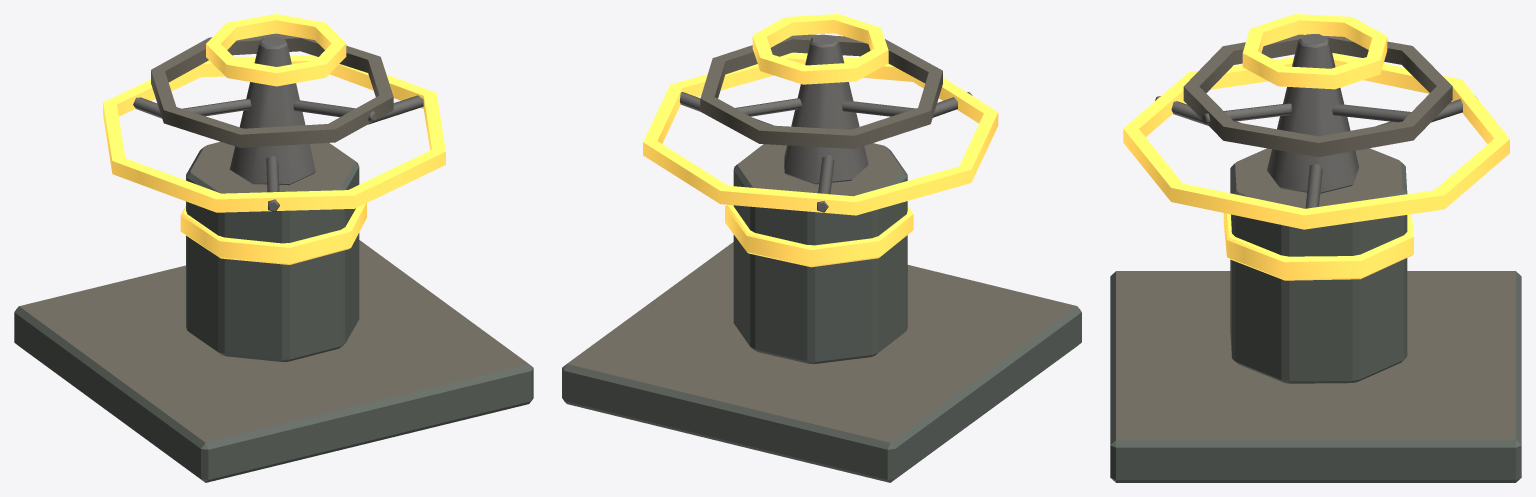
File: R4X_SupportTurretDeployer_LOD1.fbx
The picture shows the model from 3 angles, left to right: view 1: azimuth 30°, elevation 25°; view 2: azimuth 150°, elevation 25°; view 3: azimuth 270°, elevation 25°; orthographic projection. The views are drawn at different scales.
Visible parts, largest first — view 1: R4X_SupportTurretDeployer_LOD1; view 2: R4X_SupportTurretDeployer_LOD1; view 3: R4X_SupportTurretDeployer_LOD1.
Part boxes in pixels (x1,y1,x2,y2): R4X_SupportTurretDeployer_LOD1: (14, 14, 533, 482); R4X_SupportTurretDeployer_LOD1: (562, 14, 1081, 482); R4X_SupportTurretDeployer_LOD1: (1110, 14, 1521, 482).
Bounding box in the file's own units: 0.52 × 0.5 × 0.52.
